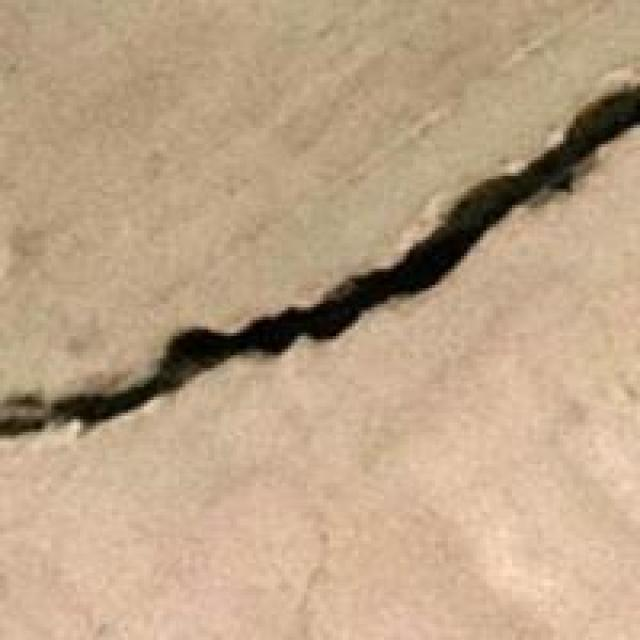crack: (0, 70, 637, 464)
